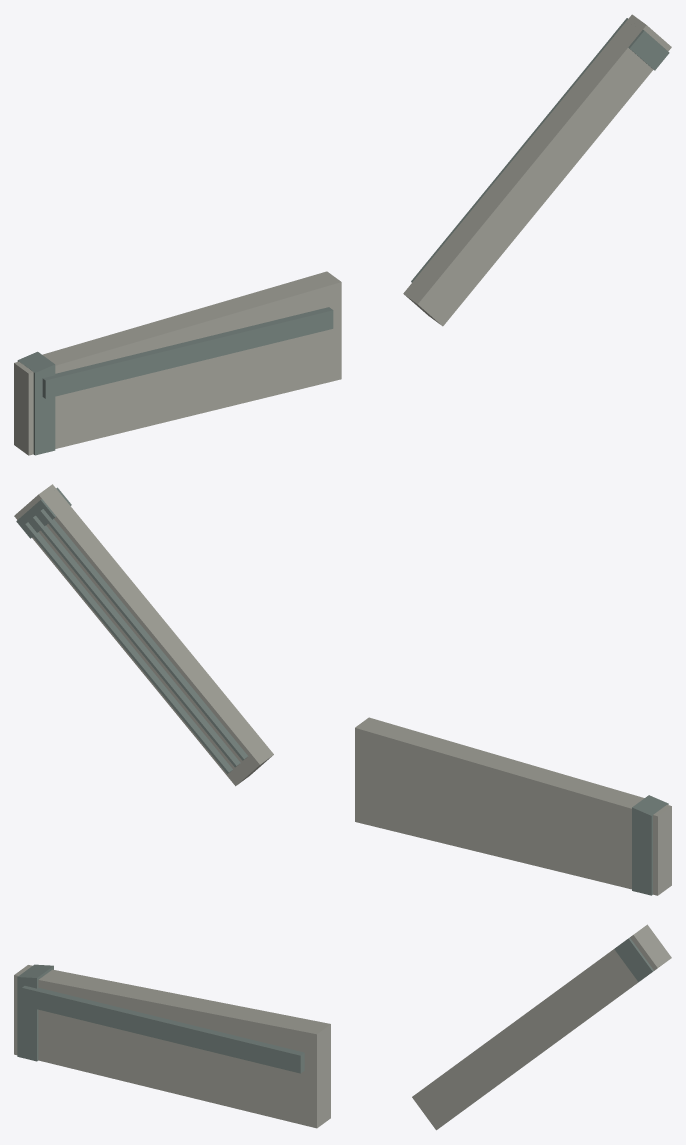
The model's file is SM_PuertaVia_v4_Blindada_e2_MuyDanado_LOD1.fbx.
3 renders of one model, top to bottom at view 1: azimuth 30°, elevation 25°; view 2: azimuth 150°, elevation 25°; view 3: azimuth 330°, elevation 25°, orthographic. The views are drawn at different scales.
Visible parts, largest first — view 1: Hoja_O, Hoja_E; view 2: Hoja_O, Hoja_E; view 3: Hoja_O, Hoja_E.
Part boxes in pixels (bbox=[...]): Hoja_O: bbox=[14, 271, 341, 455]; Hoja_E: bbox=[403, 14, 671, 326]; Hoja_O: bbox=[355, 717, 671, 895]; Hoja_E: bbox=[14, 484, 273, 786]; Hoja_O: bbox=[14, 964, 330, 1128]; Hoja_E: bbox=[412, 924, 671, 1130].
Size of what is drawn, in the model's own units: 5.18 by 2.04 by 0.47.
